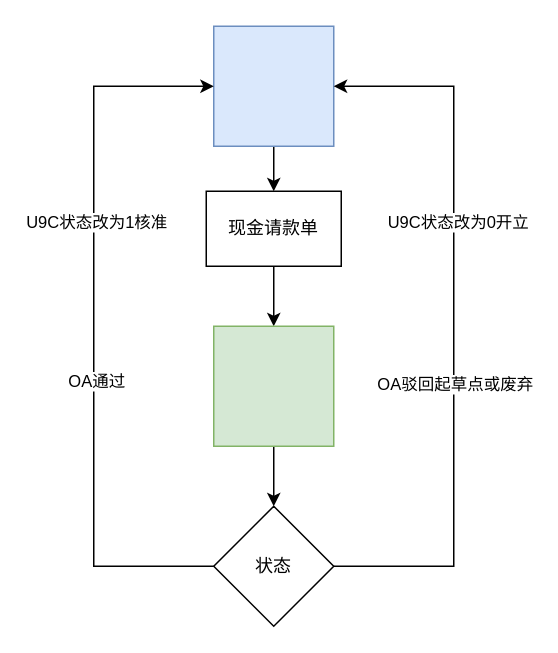
This 558x653 diagram has some shape labels left out. The shapes that lost their labels are listed below. From the top down, each one's centre as x and y in pixels, then its label:
(x=273, y=85): U9C系统
(x=273, y=385): OA系统
